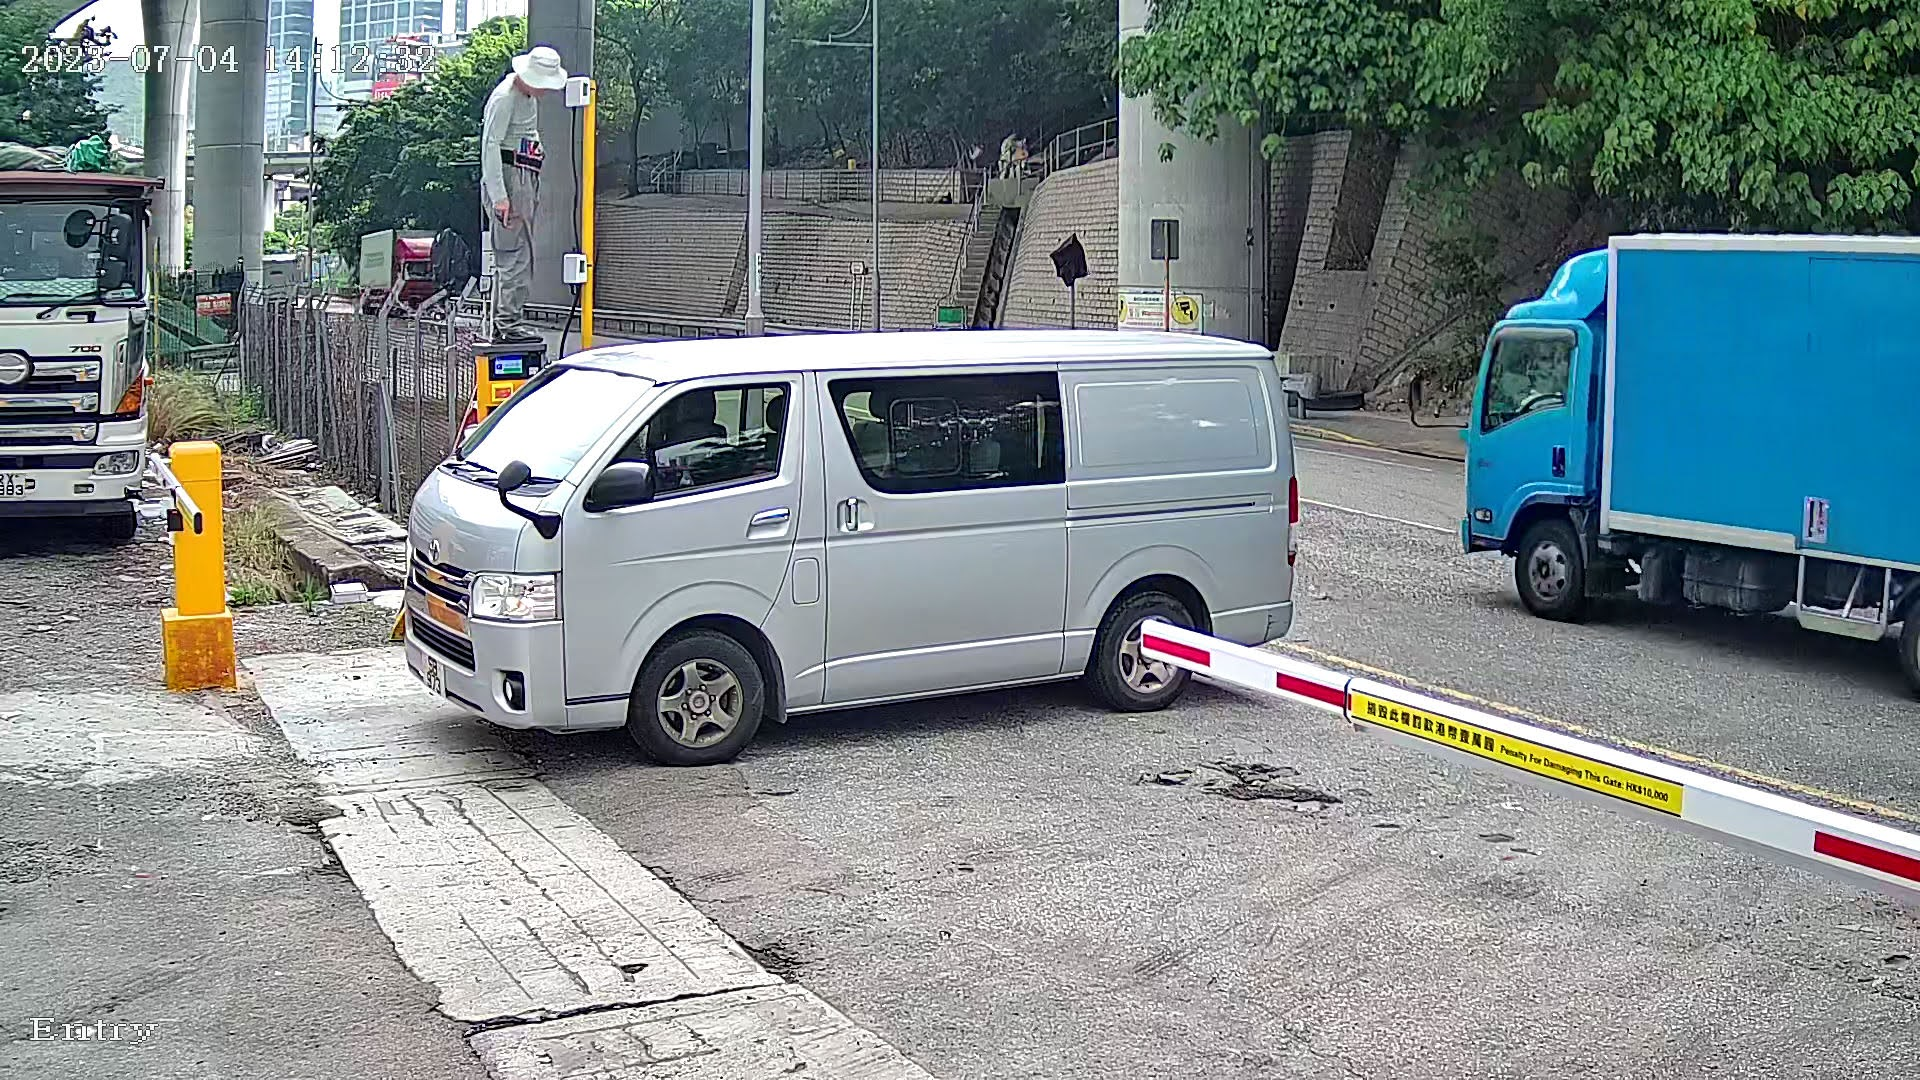privatecar: (385, 299, 1317, 791)
